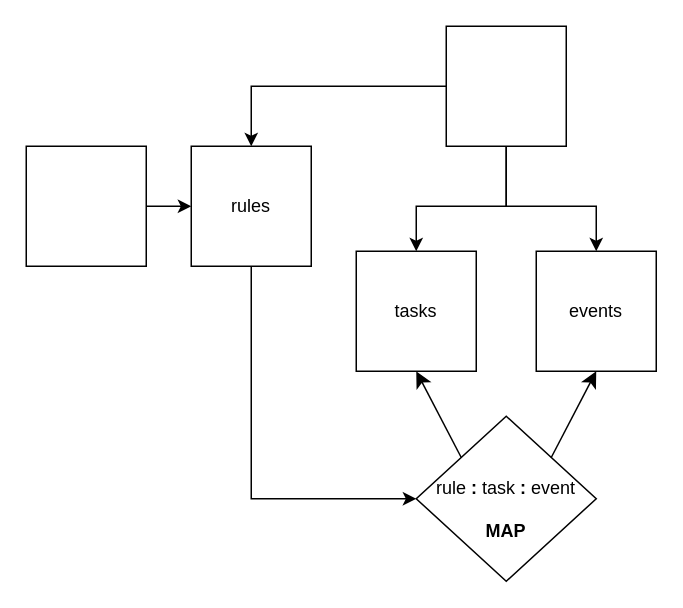
The diagram is 683 pixels wide and 608 high, and some of its shapes have lost their labels. The shapes that lost their labels are listed below. From the top down, each one's centre as x and y in pixels, then its label:
At point (505, 85): "categories".
At point (85, 205): "rates".
